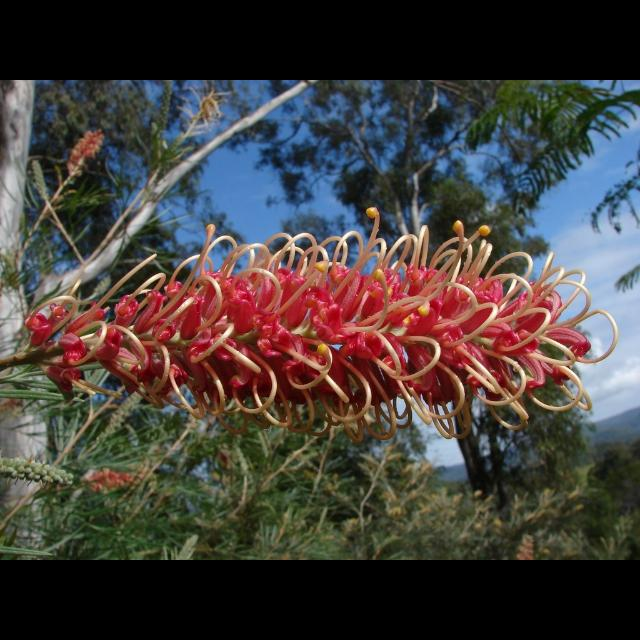Flower: (57, 212, 570, 472)
